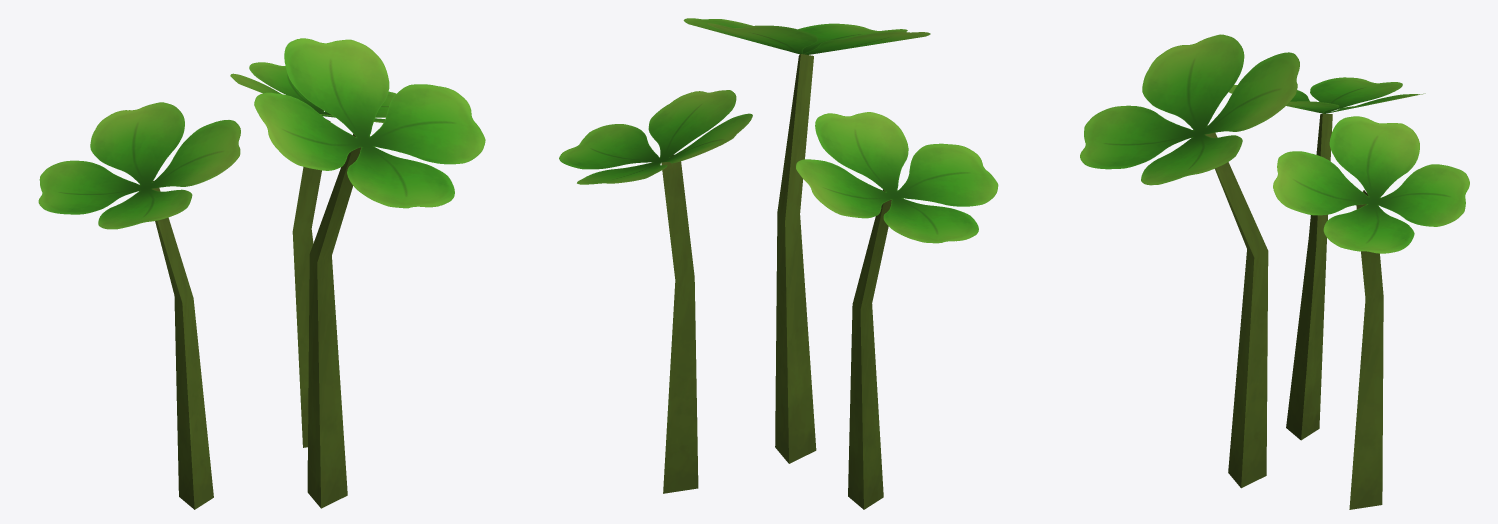
Rendered from flower5.fbx.
The picture shows the model from 3 angles, left to right: view 1: azimuth 30°, elevation 25°; view 2: azimuth 150°, elevation 25°; view 3: azimuth 270°, elevation 25°; orthographic projection. The views are drawn at different scales.
Visible parts, largest first — view 1: polySurface2269; view 2: polySurface2269; view 3: polySurface2269.
Part boxes in pixels (x1,y1,x2,y2): polySurface2269: (38,38,485,509); polySurface2269: (559,18,998,509); polySurface2269: (1080,34,1469,509).
Size of the model in its own units: 0.5553 by 0.5746 by 0.5248.
